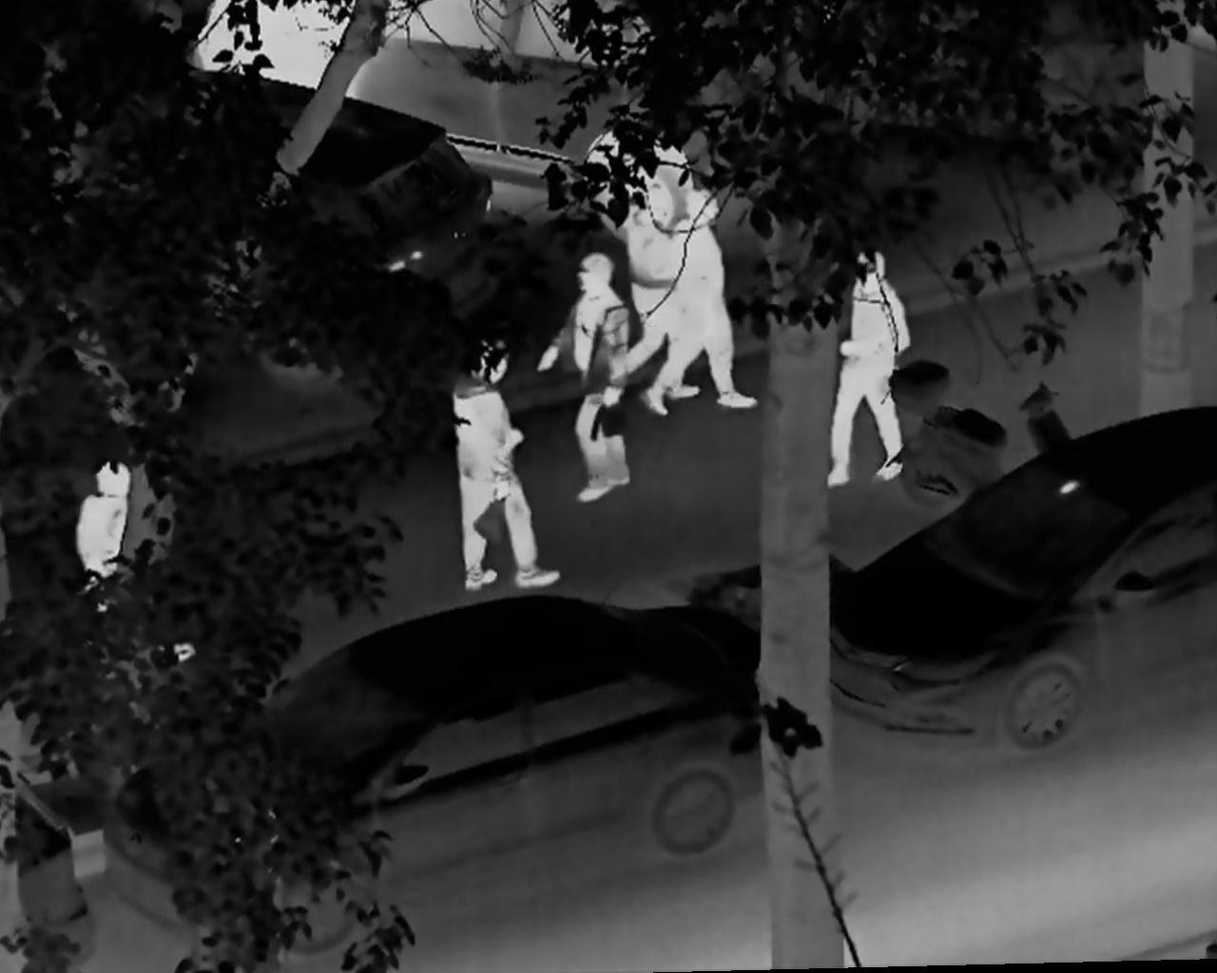person: (441, 346, 560, 595), (640, 186, 762, 419), (531, 253, 633, 509), (75, 460, 196, 668), (823, 244, 912, 488), (614, 183, 698, 404)
